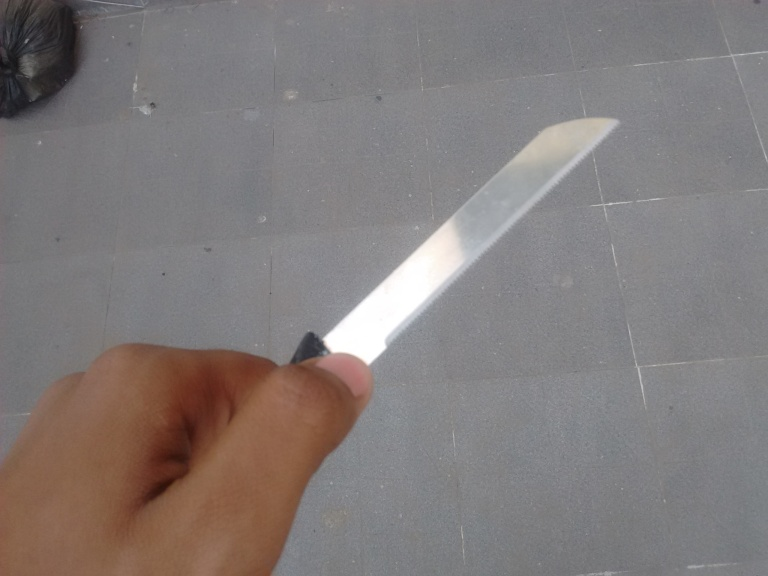knife: (376, 116, 625, 355)
